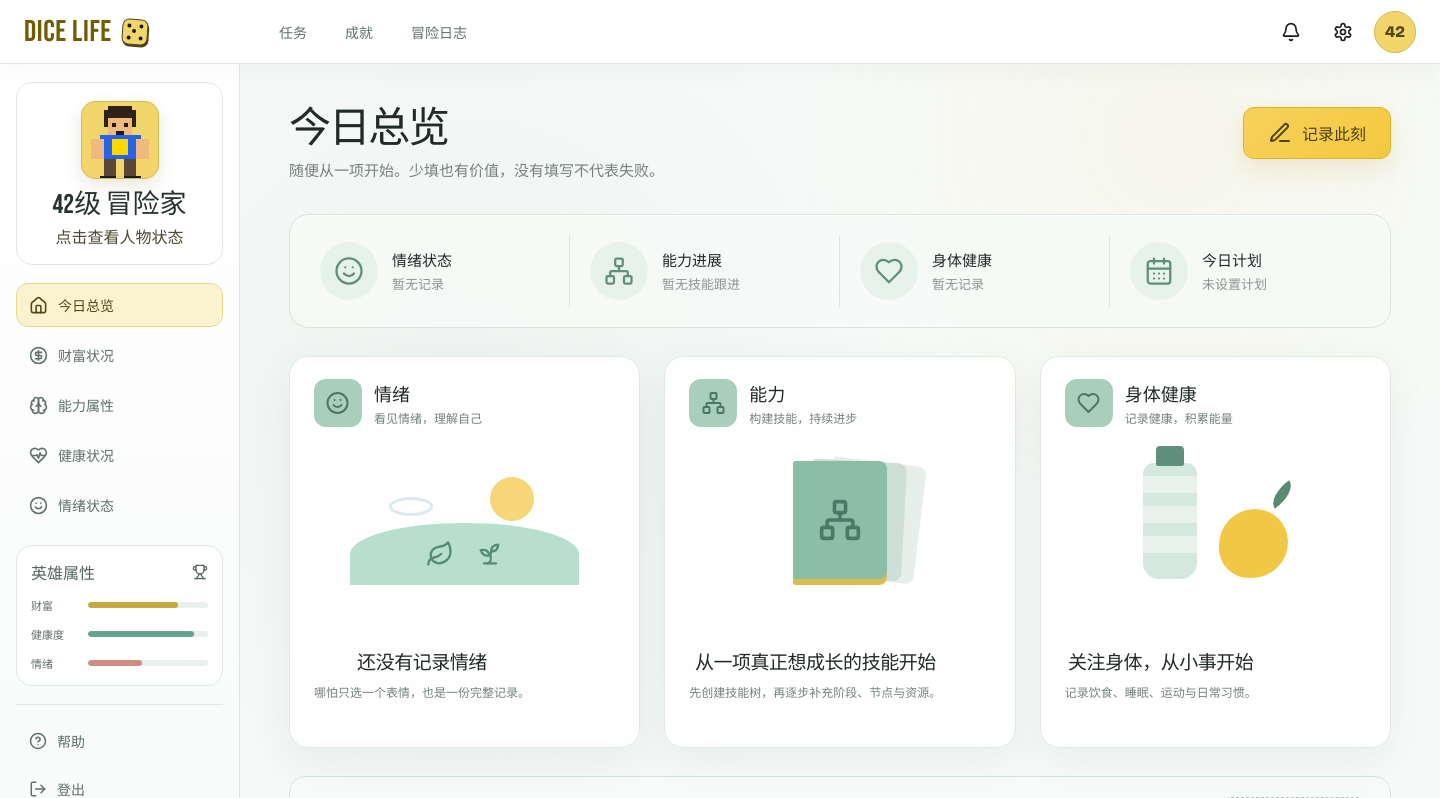
Test case: Dice Life adventure journal navigation › opens the complete adventure journal from the top navigation
What coordinates should you click on to do the following:
click the button "冒险日志"
I would click on:
 (439, 32)
Its box is [396, 10, 482, 54].
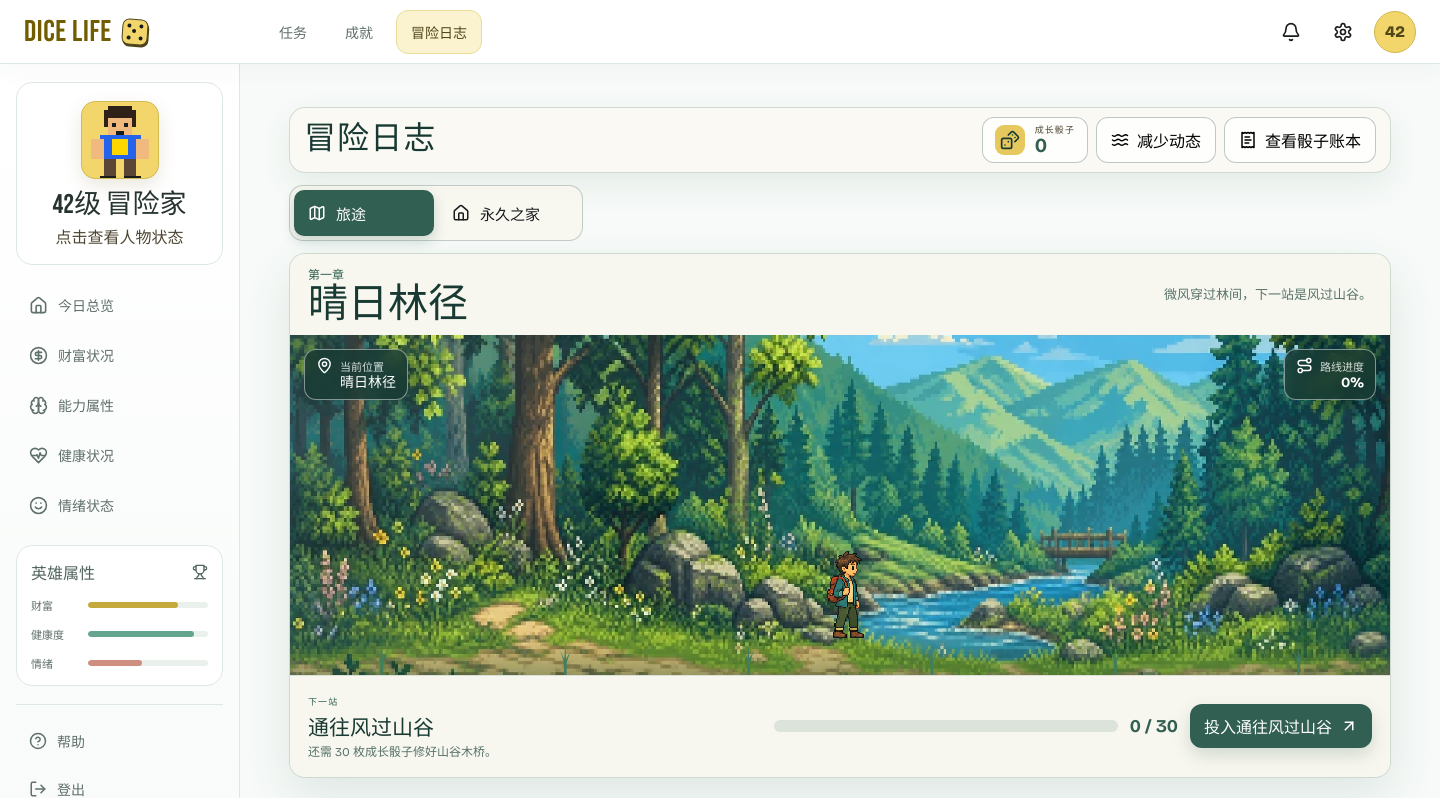
expect the heading "冒险日志" is shown: met, box [304, 124, 436, 156]
expect the tab "旅途" is shown: met, box [294, 190, 434, 236]
expect the picture named "晴日林径像素旅途场景" is shown: met, box [290, 335, 1390, 675]
